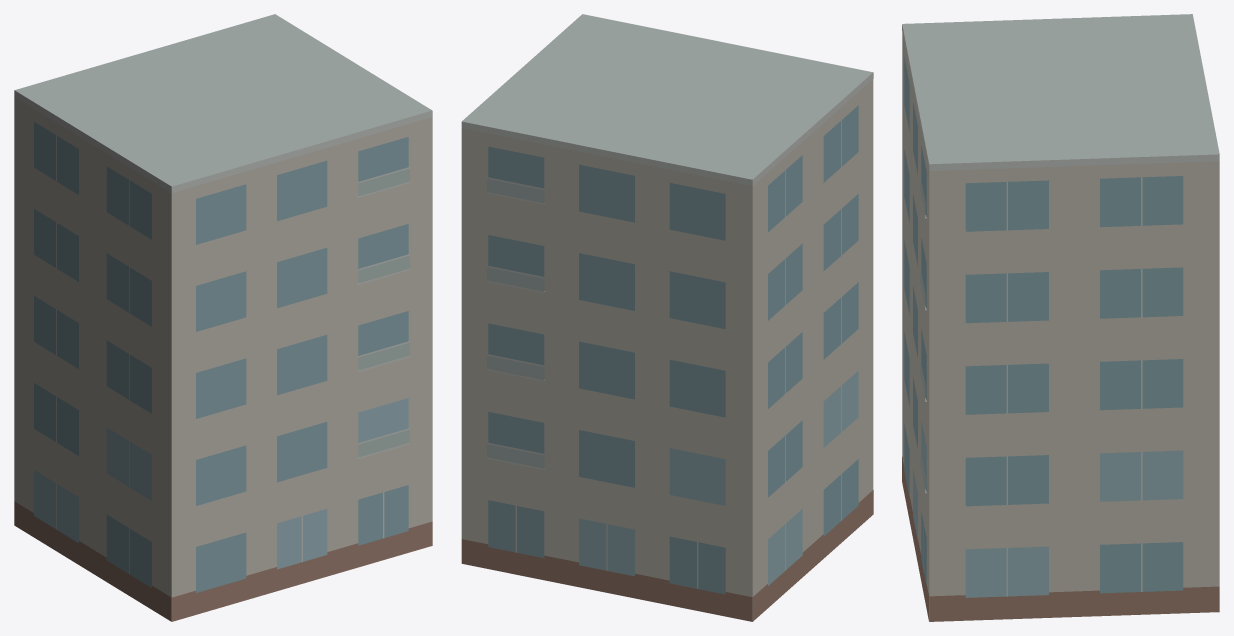
File: survey-upis-32935820.glb
3 views of the same model, side by side, from view 1: azimuth 30°, elevation 25°; view 2: azimuth 150°, elevation 25°; view 3: azimuth 270°, elevation 25° (orthographic). The views are drawn at different scales.
Parts seen in each view (by area): view 1: survey-upis-32935820.tmp; view 2: survey-upis-32935820.tmp; view 3: survey-upis-32935820.tmp.
Boxes of the visible parts, x1=… form: survey-upis-32935820.tmp: x1=14, y1=14, x2=432, y2=621; survey-upis-32935820.tmp: x1=461, y1=14, x2=873, y2=621; survey-upis-32935820.tmp: x1=902, y1=14, x2=1219, y2=621.
Size of the model in its own units: 11.48 by 16.3 by 10.26.
